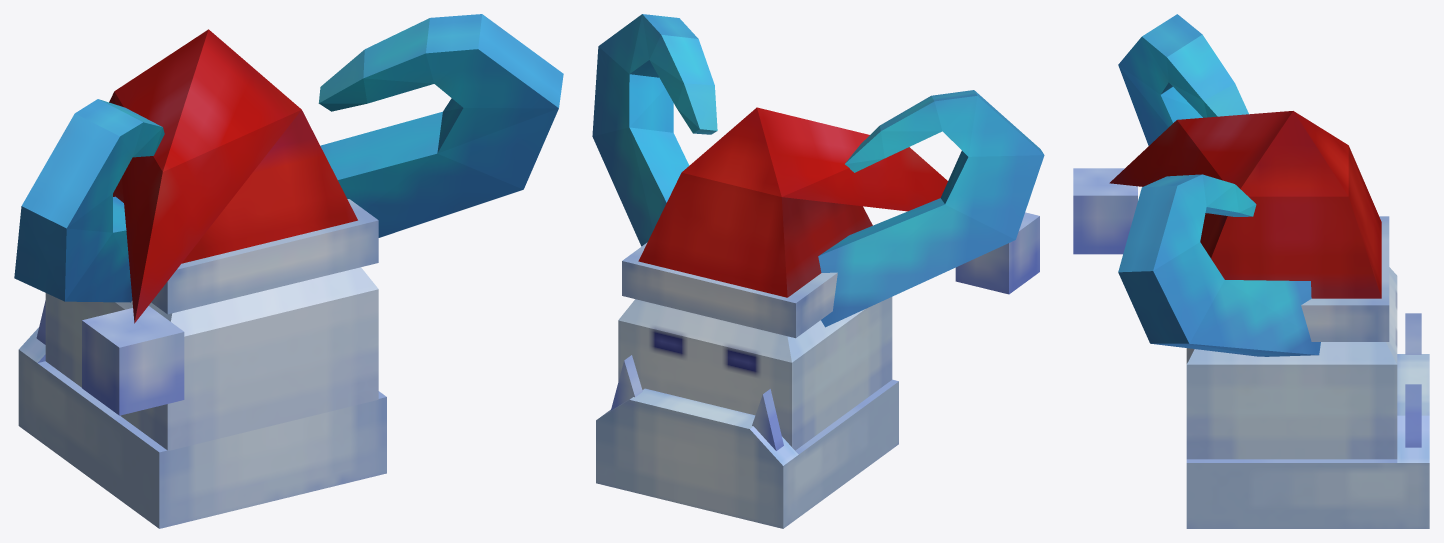
The model's file is snow_monster_head.glb.
3 renders of one model, left to right at view 1: azimuth 30°, elevation 25°; view 2: azimuth 150°, elevation 25°; view 3: azimuth 270°, elevation 25°, orthographic. The views are drawn at different scales.
Visible parts, largest first — view 1: snow_monster_head; view 2: snow_monster_head; view 3: snow_monster_head.
Part boxes in pixels (x1=…): snow_monster_head: x1=14, y1=14, x2=563, y2=528; snow_monster_head: x1=592, y1=14, x2=1044, y2=528; snow_monster_head: x1=1073, y1=14, x2=1429, y2=528.
Size of the model in its own units: 11.82 by 9.2 by 7.8.
1 material, 1 textured.
